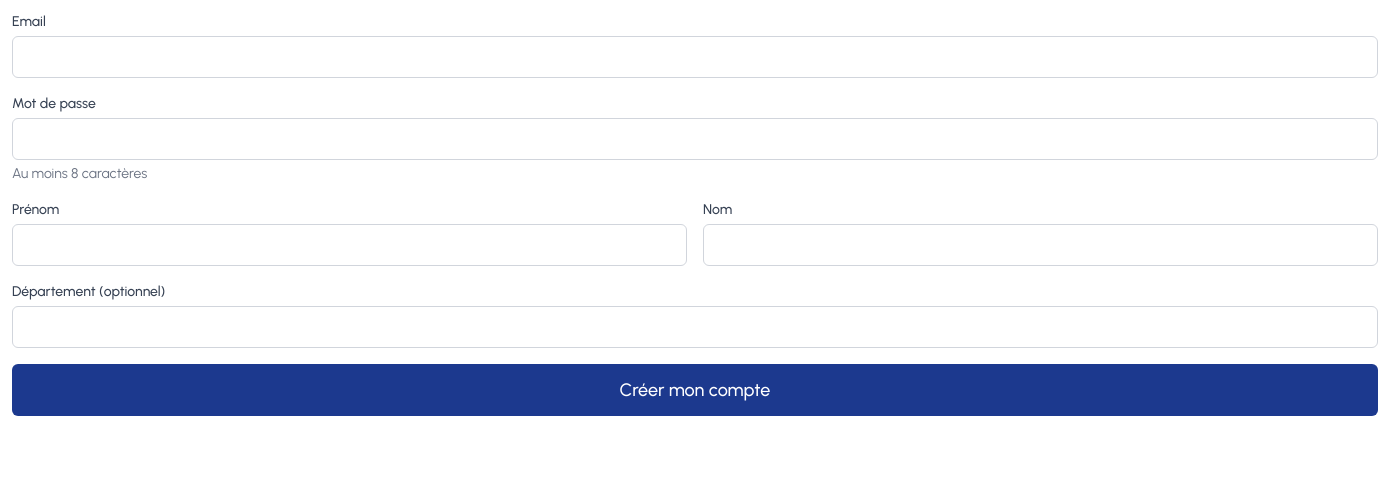
Scenario: RegisterForm › affiche des erreurs si les champs requis sont vides
The width and height of the screenshot is (1390, 485).
Click the button "Créer mon compte": point(695, 390) [12,364,1378,416]
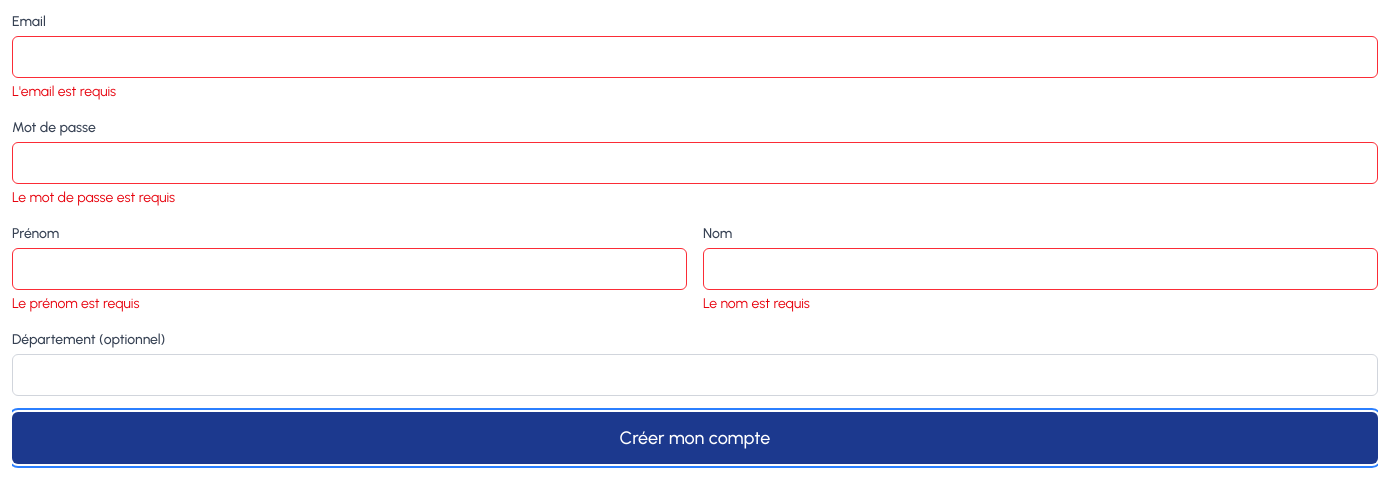
Now the text "L'email est requis" is shown, box [12,83,116,100]
Now the text "Le mot de passe est requis" is shown, box [12,189,175,206]
Now the text "Le prénom est requis" is shown, box [12,295,139,312]
